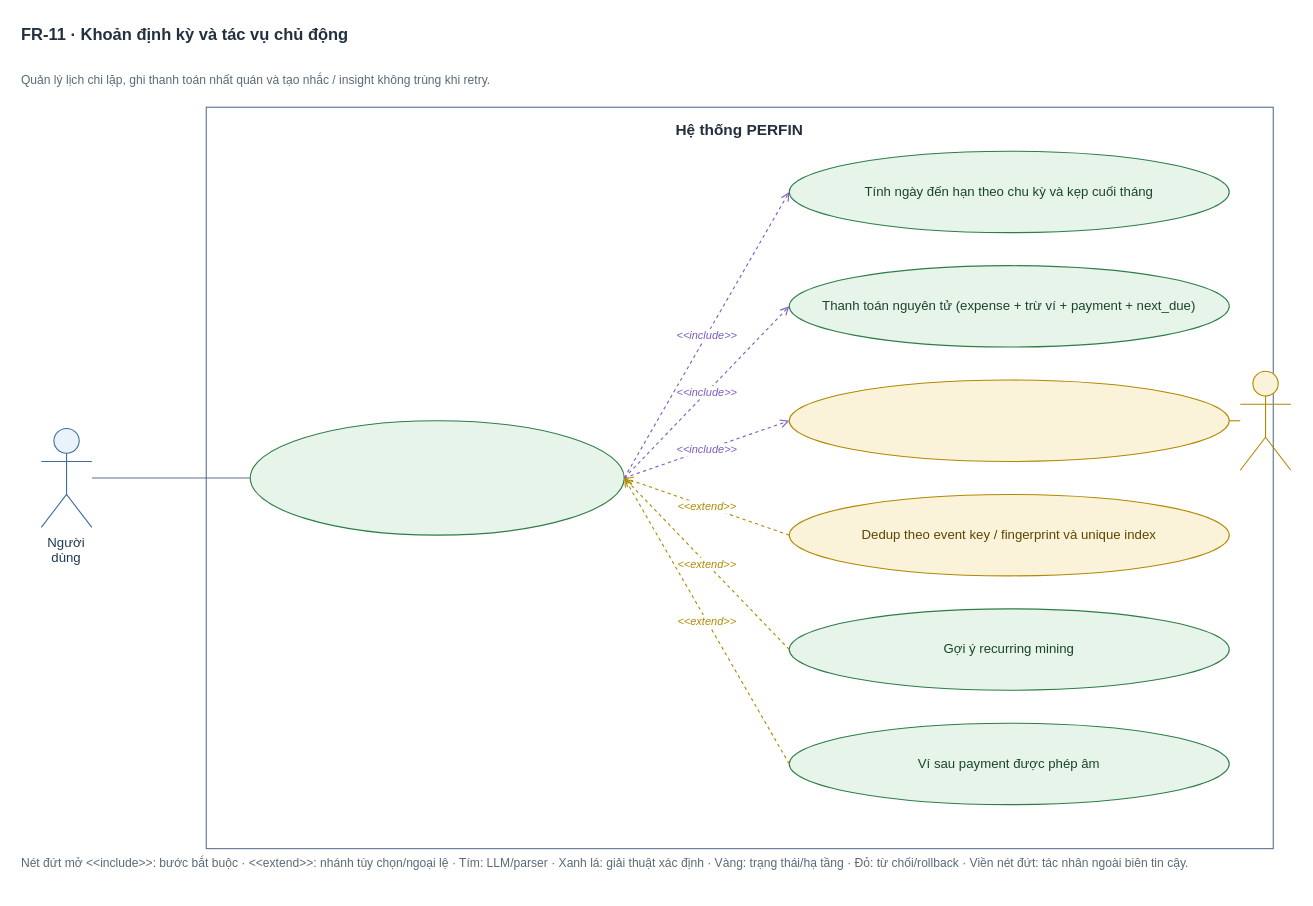
The diagram is 1313 pixels wide and 906 high, and some of its shapes have lost their labels. The centre of each missing label's shape, as x and y in pixels:
"Quản lý khoản định kỳ và tác vụ nền" belongs at (x=436, y=477).
"Scheduler upsert lịch, retry ≤ 3 lần backoff" belongs at (x=1008, y=420).
"Worker nền" belongs at (x=1265, y=420).
